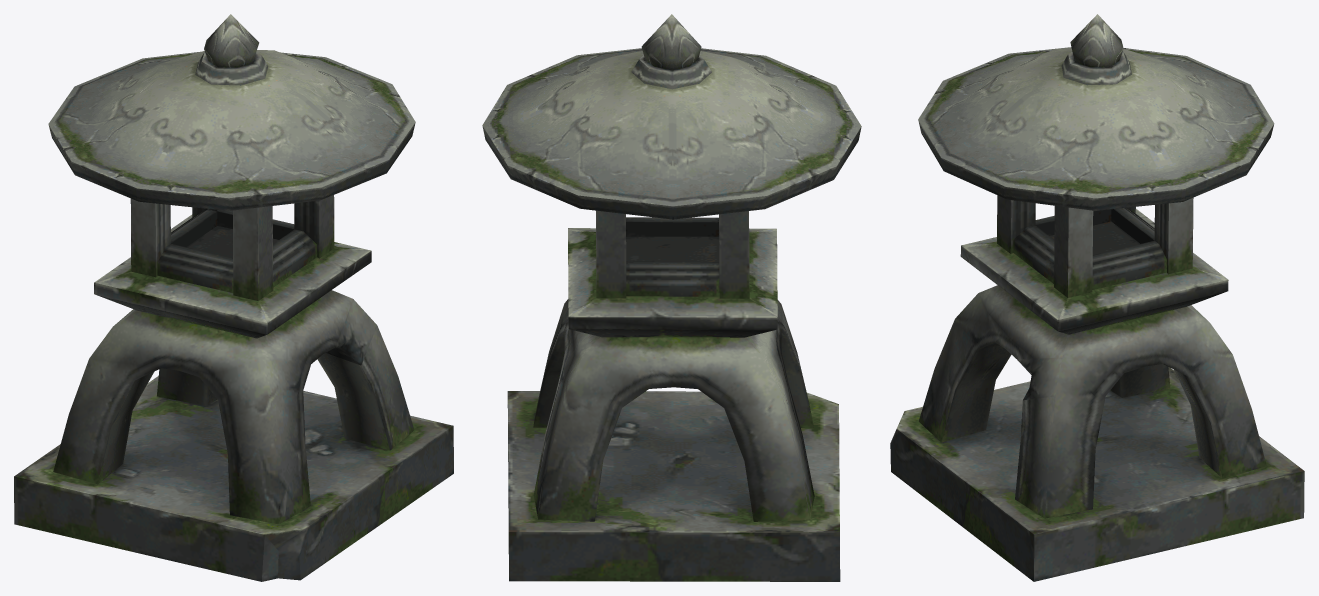
Rendered from 1001_tietu_1.FBX.
The picture shows the model from 3 angles, left to right: view 1: azimuth 30°, elevation 25°; view 2: azimuth 150°, elevation 25°; view 3: azimuth 270°, elevation 25°; orthographic projection. The views are drawn at different scales.
Visible parts, largest first — view 1: 1001_tietu_1; view 2: 1001_tietu_1; view 3: 1001_tietu_1.
Boxes of the visible parts, box(x1,y1,x2,y2) form: 1001_tietu_1: box(14, 14, 453, 581); 1001_tietu_1: box(482, 14, 861, 581); 1001_tietu_1: box(890, 14, 1304, 581).
Bounding box in the file's own units: 241 × 293 × 230.
